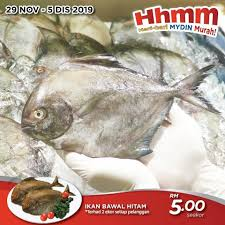Ikan Bawal: (13, 59, 222, 161)
